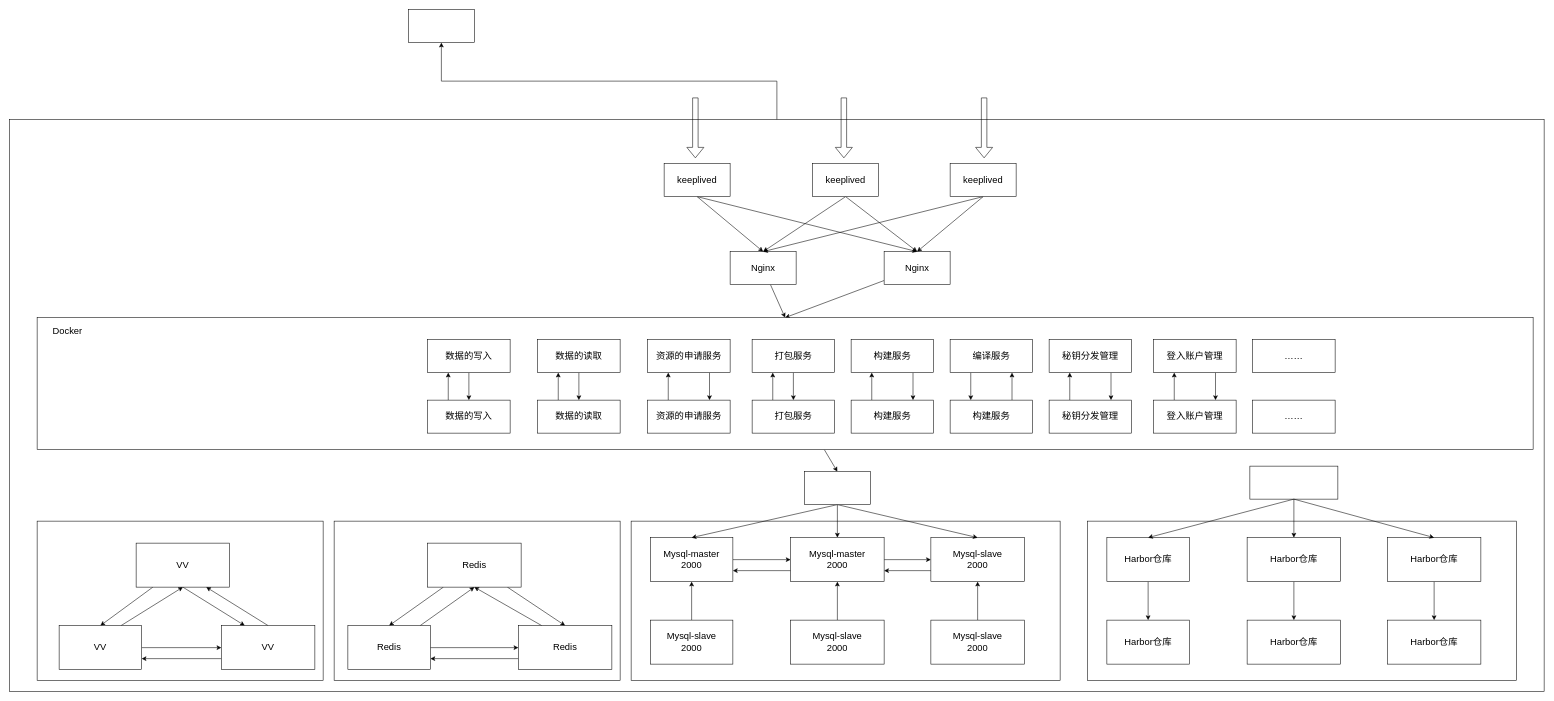
The diagram is 1554 pixels wide and 701 high, and some of its shapes have lost their labels. The box of each missing label's shape, as (x1, y1, x2, y2) in pixels:
Harbor仓库集群: (1249, 466, 1338, 499)
mycat: (804, 471, 870, 505)
运维人员: (408, 9, 474, 43)
